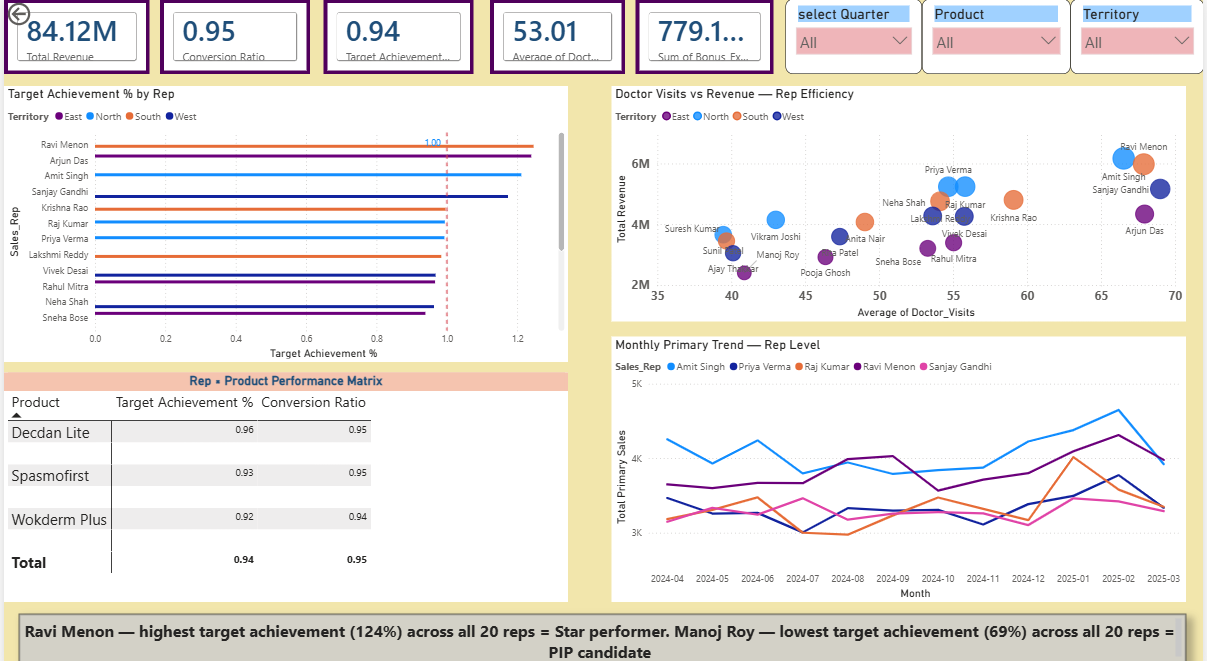

Layout of this report page (visuals, bound fields, positions):
{"tool":"powerbi","page":{"name":"Rep Performance","canvas":[1600,900],"ordinal":2},"visuals":[{"type":"cardVisual","fields":{"Data":["pharma_sales.Conversion Ratio"]},"box":[208,0,200,100],"z":0},{"type":"cardVisual","fields":{"Data":["pharma_sales.Target Achievement %"]},"box":[426,0,200,100],"z":1000},{"type":"cardVisual","fields":{"Data":["pharma_sales.Total Revenue"]},"box":[0,0,194,100],"z":2000},{"type":"cardVisual","fields":{"Data":["Avg(pharma_sales.Doctor_Visits)"]},"box":[648,0,180,100],"z":3000},{"type":"cardVisual","fields":{"Data":["Sum(pharma_sales.Bonus_Expense)"]},"box":[842,0,184,100],"z":4000},{"type":"slicer","fields":{"Values":["pharma_sales.Quarter"]},"box":[1042,0,182,100],"z":5000},{"type":"slicer","fields":{"Values":["pharma_sales.Product"]},"box":[1224,0,198,100],"z":6000},{"type":"slicer","fields":{"Values":["pharma_sales.Territory"]},"box":[1422,0,178,100],"z":7000},{"type":"clusteredBarChart","title":"Target Achievement % by Rep","fields":{"Category":["pharma_sales.Sales_Rep"],"Y":["pharma_sales.Target Achievement %"],"Series":["pharma_sales.Territory"]},"box":[0,116,752,368],"z":8000},{"type":"scatterChart","title":"Doctor Visits vs Revenue — Rep Efficiency","fields":{"X":["Avg(pharma_sales.Doctor_Visits)"],"Y":["pharma_sales.Total Revenue"],"Series":["pharma_sales.Territory"],"Size":["pharma_sales.Total Primary Sales"],"Category":["pharma_sales.Sales_Rep"]},"box":[810,116,766,314],"z":9000},{"type":"pivotTable","title":"Rep × Product Performance Matrix","fields":{"Rows":["pharma_sales.Product"],"Values":["pharma_sales.Target Achievement %","pharma_sales.Conversion Ratio"]},"box":[0,498,752,306],"z":10000},{"type":"actionButton","box":[0,0,100,40],"z":11000},{"type":"lineChart","title":"Monthly Primary Trend — Rep Level","fields":{"Category":["pharma_sales.Month"],"Y":["pharma_sales.Total Primary Sales"],"Series":["pharma_sales.Sales_Rep"]},"box":[810,450,766,354],"z":12000},{"type":"textbox","box":[20,820,1556,66],"z":13000}]}

Visuals, with their boxes in screenshot pixels (x1, y1, x2, y2), scaled from the page's 1600x900 canvas onto the 1207x661 screenshot:
cardVisual - pharma_sales.Conversion Ratio: x1=157, y1=0, x2=308, y2=73
cardVisual - pharma_sales.Target Achievement %: x1=321, y1=0, x2=472, y2=73
cardVisual - pharma_sales.Total Revenue: x1=0, y1=0, x2=146, y2=73
cardVisual - Avg(pharma_sales.Doctor_Visits): x1=489, y1=0, x2=625, y2=73
cardVisual - Sum(pharma_sales.Bonus_Expense): x1=635, y1=0, x2=774, y2=73
slicer - pharma_sales.Quarter: x1=786, y1=0, x2=923, y2=73
slicer - pharma_sales.Product: x1=923, y1=0, x2=1073, y2=73
slicer - pharma_sales.Territory: x1=1073, y1=0, x2=1206, y2=73
"Target Achievement % by Rep" clusteredBarChart: x1=0, y1=85, x2=567, y2=355
"Doctor Visits vs Revenue — Rep Efficiency" scatterChart: x1=611, y1=85, x2=1189, y2=316
"Rep × Product Performance Matrix" pivotTable: x1=0, y1=366, x2=567, y2=590
actionButton: x1=0, y1=0, x2=75, y2=29
"Monthly Primary Trend — Rep Level" lineChart: x1=611, y1=330, x2=1189, y2=590
textbox: x1=15, y1=602, x2=1189, y2=651
